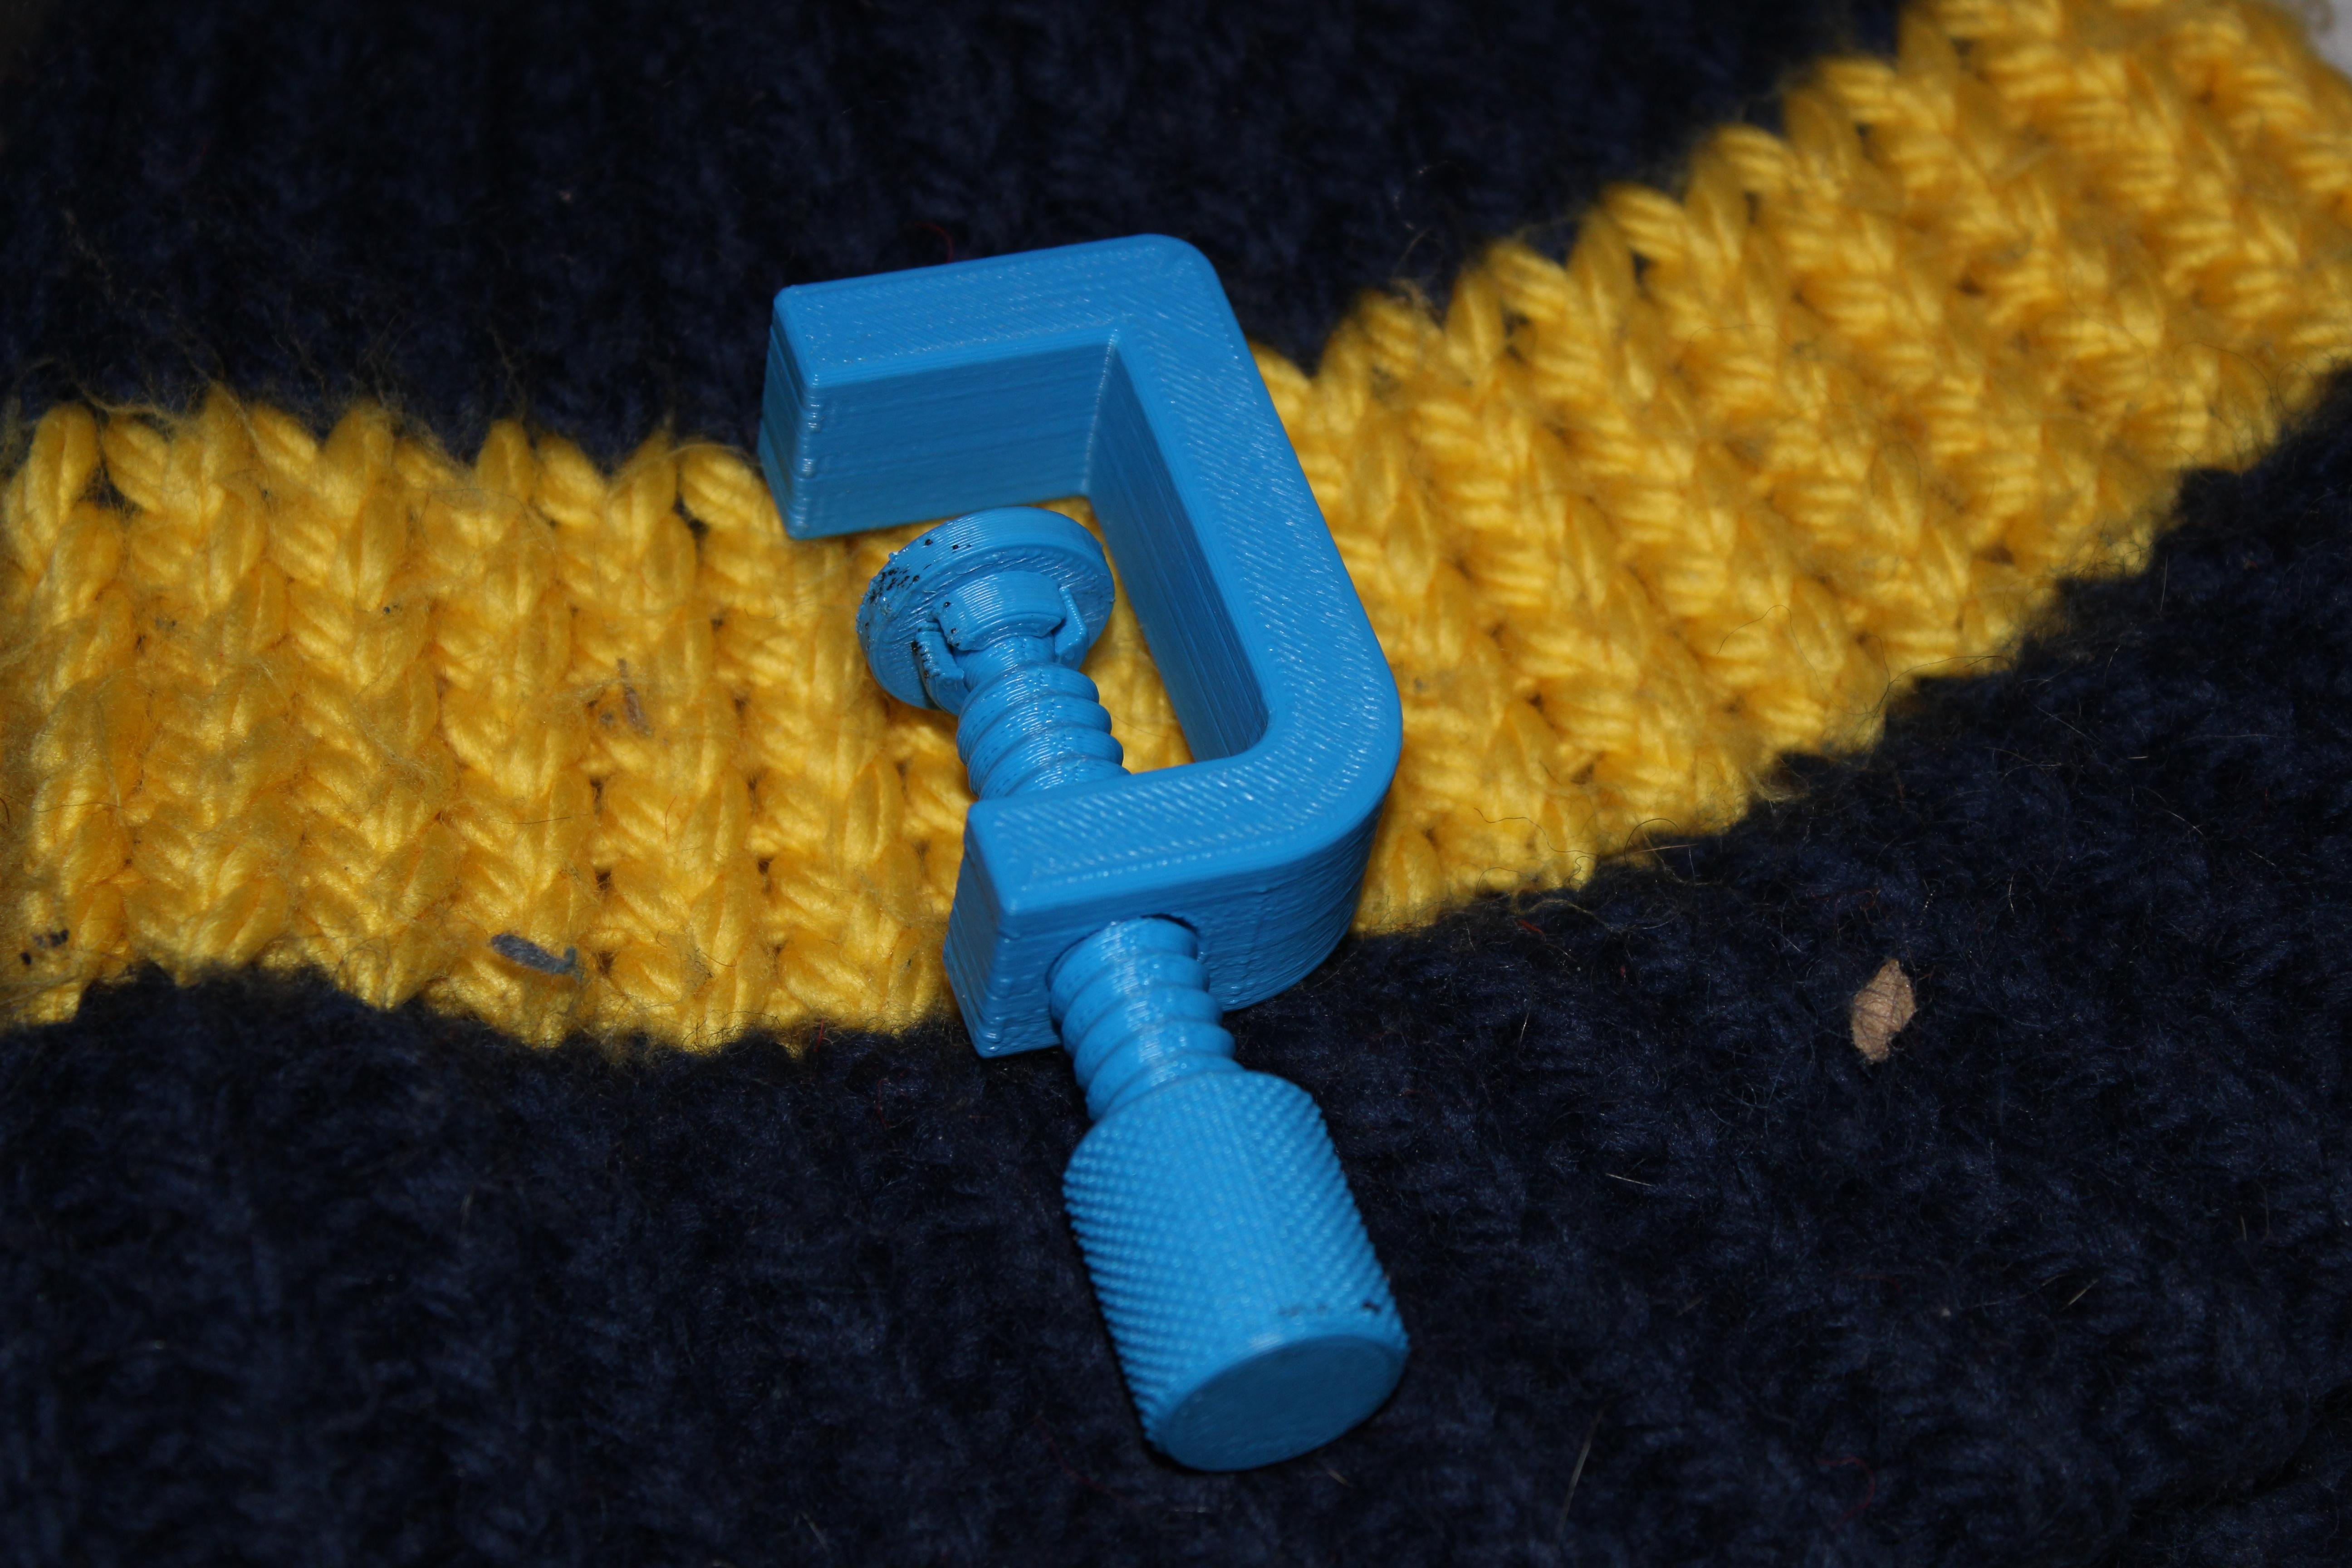gClamp: (693, 194, 1456, 1510)
